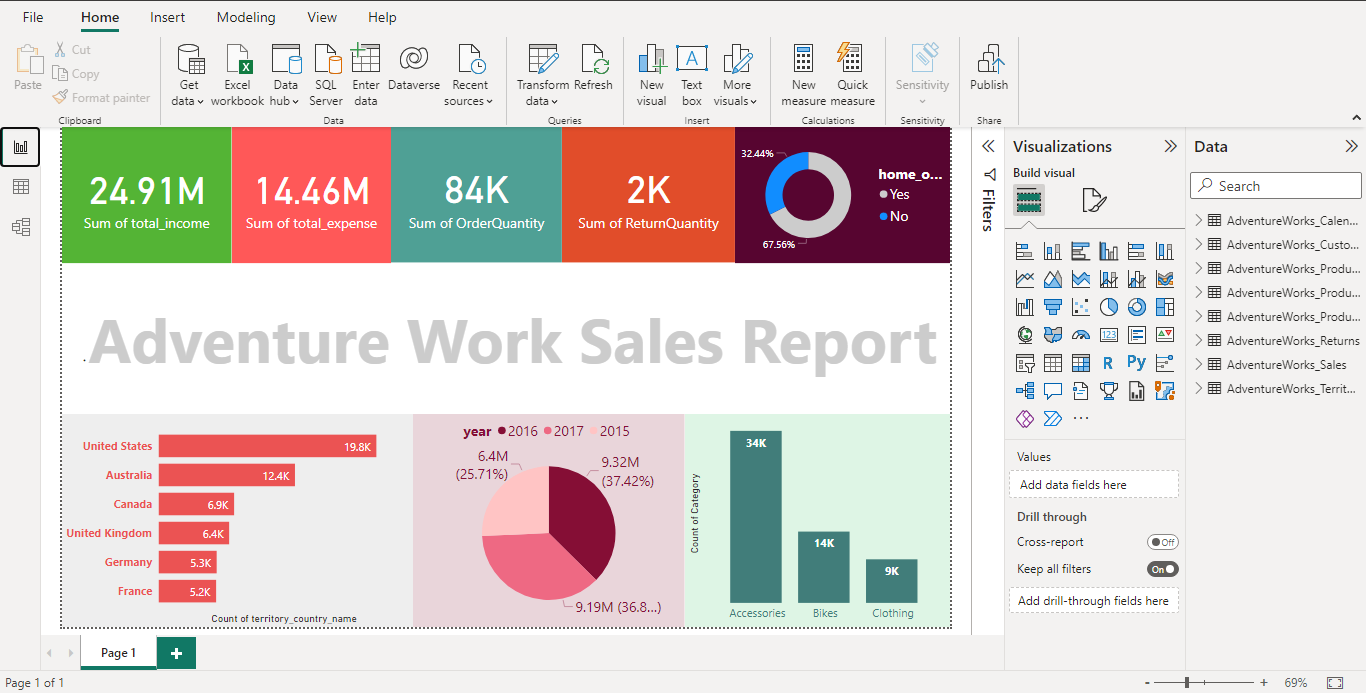

The page's visual inventory and layout, read from the dashboard file:
{"tool":"powerbi","page":{"name":"Page 1","canvas":[1280,720],"ordinal":0},"visuals":[{"type":"card","fields":{"Values":["Sum(AdventureWorks_Sales.total)"]},"box":[0,0,244.5,196.2],"z":0},{"type":"donutChart","fields":{"Category":["AdventureWorks_Customers.home_owner_breakdown"],"Y":["CountNonNull(AdventureWorks_Customers.home_owner_breakdown)"]},"box":[968.6,0,311.4,196.2],"z":1000},{"type":"clusteredBarChart","fields":{"Category":["AdventureWorks_Sales.territory_country_name"],"Y":["CountNonNull(AdventureWorks_Sales.territory_country_name)"]},"box":[0,412.7,506.1,306.8],"z":2000},{"type":"card","fields":{"Values":["Sum(AdventureWorks_Sales.total_cost)"]},"box":[244.5,0,228.9,196.2],"z":3000},{"type":"pieChart","fields":{"Y":["Sum(AdventureWorks_Sales.total_income)"],"Category":["AdventureWorks_Sales.year"]},"box":[506.1,412.7,390.9,306.8],"z":4000},{"type":"card","fields":{"Values":["Sum(AdventureWorks_Returns.ReturnQuantity)"]},"box":[719.4,0,249.1,194.6],"z":5000},{"type":"card","fields":{"Values":["Sum(AdventureWorks_Sales.OrderQuantity)"]},"box":[473.4,0,246,194.6],"z":6000},{"type":"columnChart","fields":{"Category":["AdventureWorks_Sales.Category"],"Y":["CountNonNull(AdventureWorks_Sales.Category)"]},"box":[896.9,412.7,383.1,306.8],"z":7000},{"type":"textbox","box":[0,240.5,1280.2,133.9],"z":7001}]}

Visuals, with their boxes on the page's 1280x720 design canvas (x1, y1, x2, y2). These are canvas units, not pixel positions in the 1366x693 screenshot, which may show the page scaled, cropped or inside an application window:
card - Sum(AdventureWorks_Sales.total): 0/0/244/196
donutChart - AdventureWorks_Customers.home_owner_breakdown x CountNonNull(AdventureWorks_Customers.home_owner_breakdown): 969/0/1280/196
clusteredBarChart - AdventureWorks_Sales.territory_country_name x CountNonNull(AdventureWorks_Sales.territory_country_name): 0/413/506/720
card - Sum(AdventureWorks_Sales.total_cost): 244/0/473/196
pieChart - Sum(AdventureWorks_Sales.total_income) x AdventureWorks_Sales.year: 506/413/897/720
card - Sum(AdventureWorks_Returns.ReturnQuantity): 719/0/968/195
card - Sum(AdventureWorks_Sales.OrderQuantity): 473/0/719/195
columnChart - AdventureWorks_Sales.Category x CountNonNull(AdventureWorks_Sales.Category): 897/413/1280/720
textbox: 0/240/1280/374
